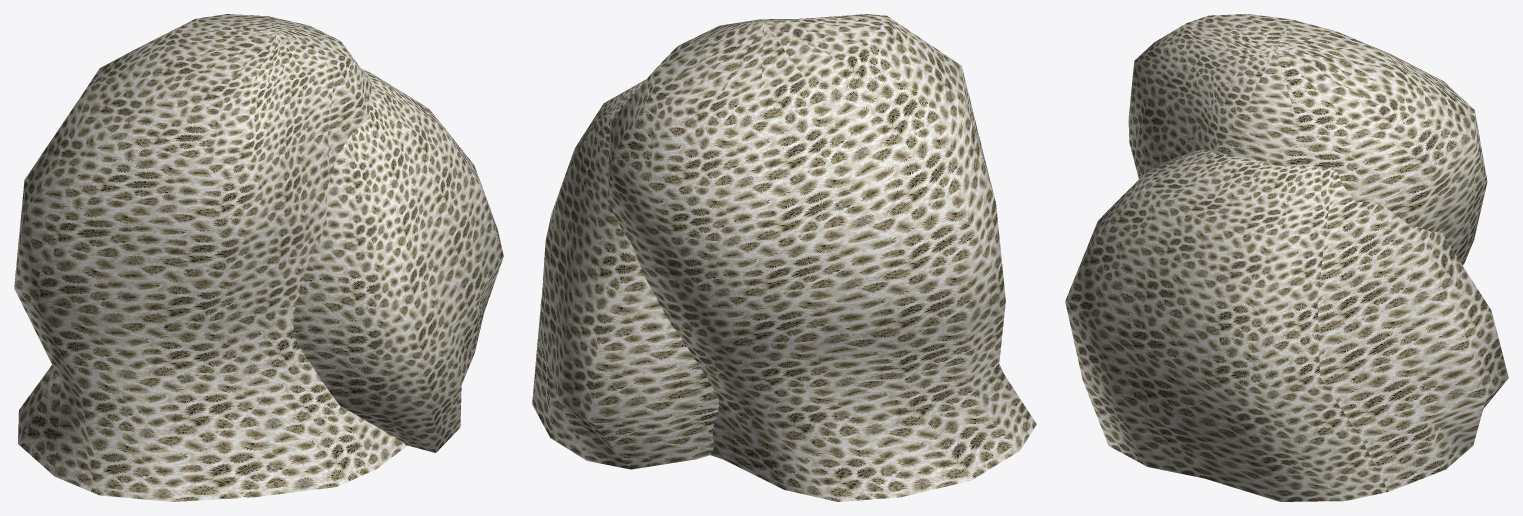
File: SG_envProp_Coral1v2.FBX
The picture shows the model from 3 angles, left to right: view 1: azimuth 30°, elevation 25°; view 2: azimuth 150°, elevation 25°; view 3: azimuth 270°, elevation 25°; orthographic projection. The views are drawn at different scales.
Visible parts, largest first — view 1: SG_envProp_Coral1v2; view 2: SG_envProp_Coral1v2; view 3: SG_envProp_Coral1v2.
Part boxes in pixels (x1,y1,x2,y2): SG_envProp_Coral1v2: [14, 14, 503, 501]; SG_envProp_Coral1v2: [532, 14, 1036, 501]; SG_envProp_Coral1v2: [1065, 14, 1508, 501].
Bounding box in the file's own units: 0.2312 × 0.1831 × 0.2031.
